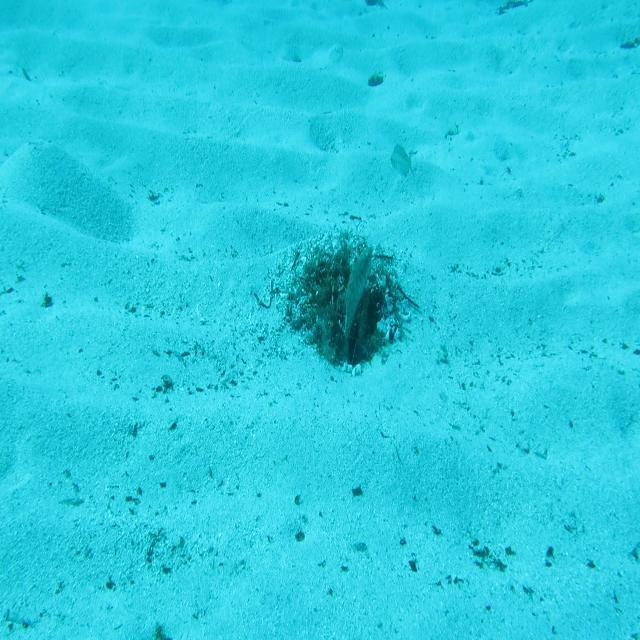H_UP: (340, 241, 378, 372)
female: (386, 136, 418, 191)
nest: (278, 236, 405, 381)
